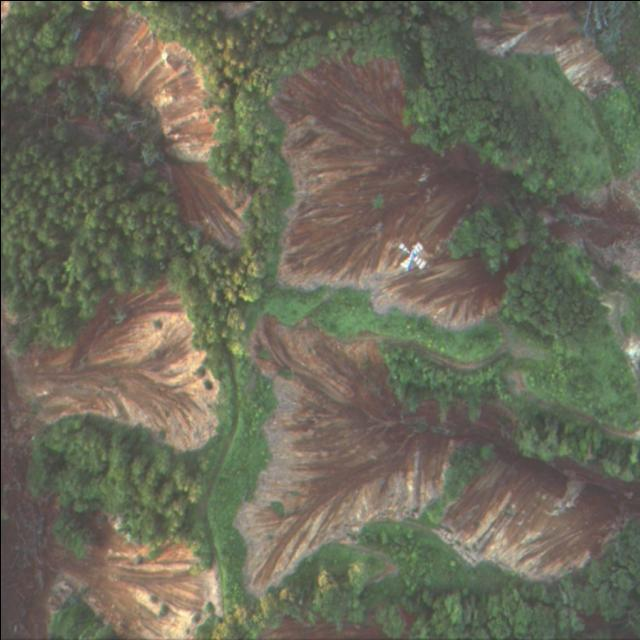landslide: (234, 315, 640, 594), (0, 281, 216, 639), (271, 55, 533, 327), (75, 6, 242, 246), (520, 167, 640, 282), (473, 2, 617, 93)
